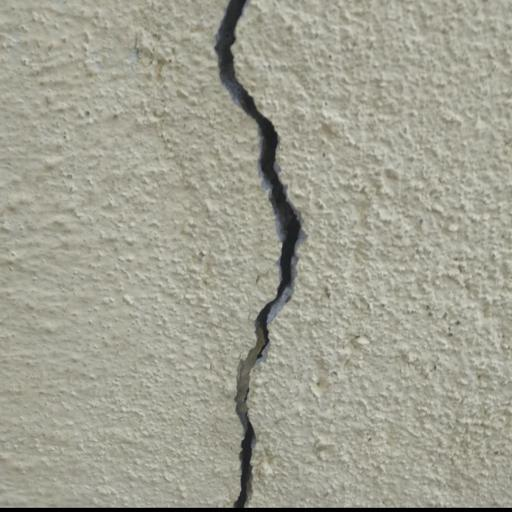major_crack: (186, 0, 311, 512)
